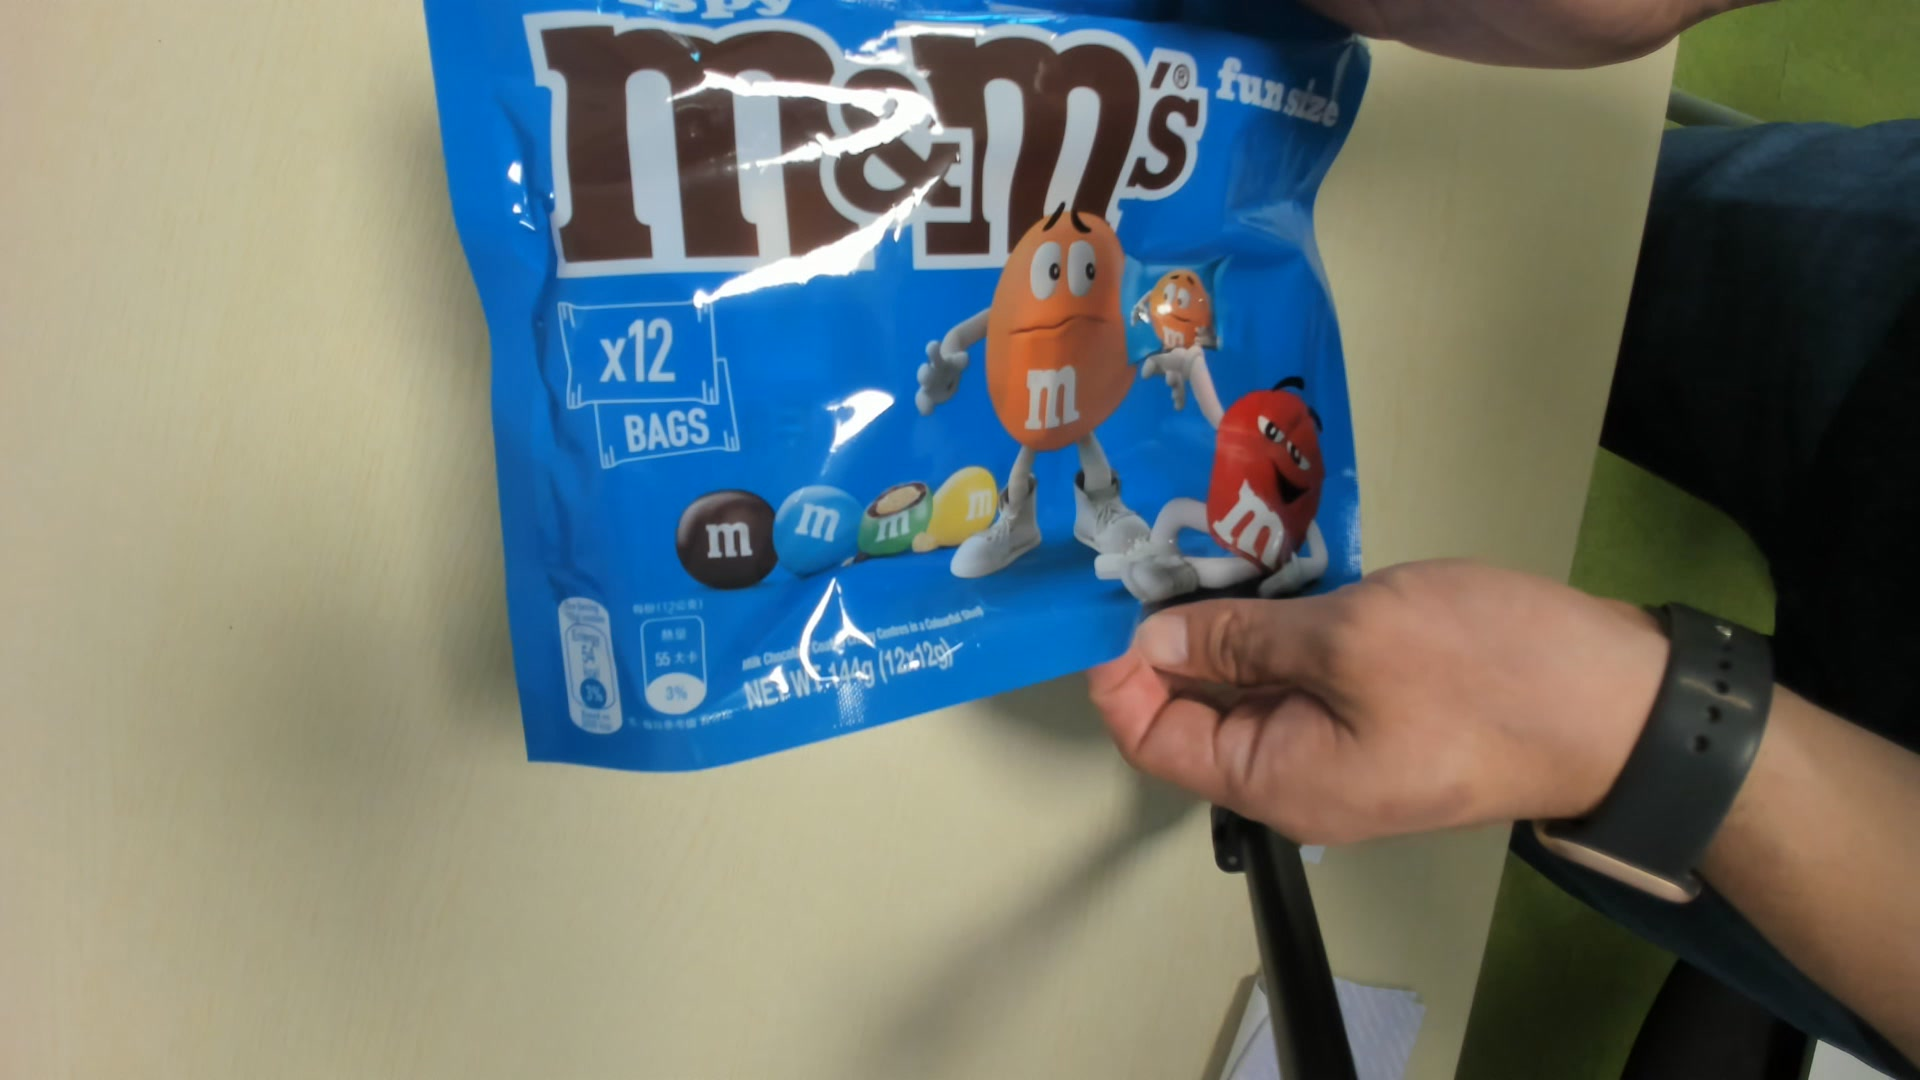SweetsChocolatesOthers_100-199g_Halal_Nonhealthy: (419, 12, 1369, 785)
